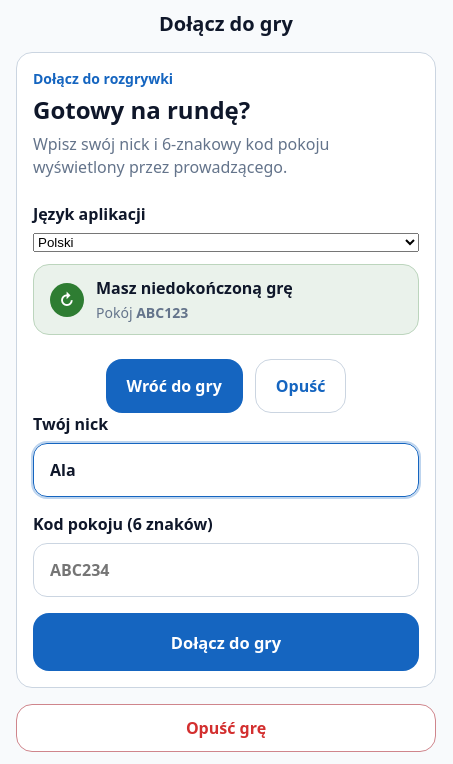
Test: JoinScreen › removes a stored unfinished game after explicit leave
Click the button "Opuść" at (301, 386), box [255,359,346,413]
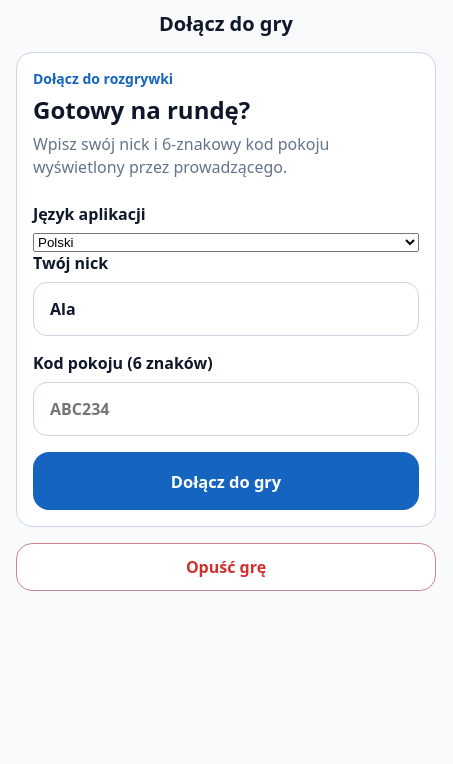
Expected: the text "Masz niedokończoną grę" is gone
